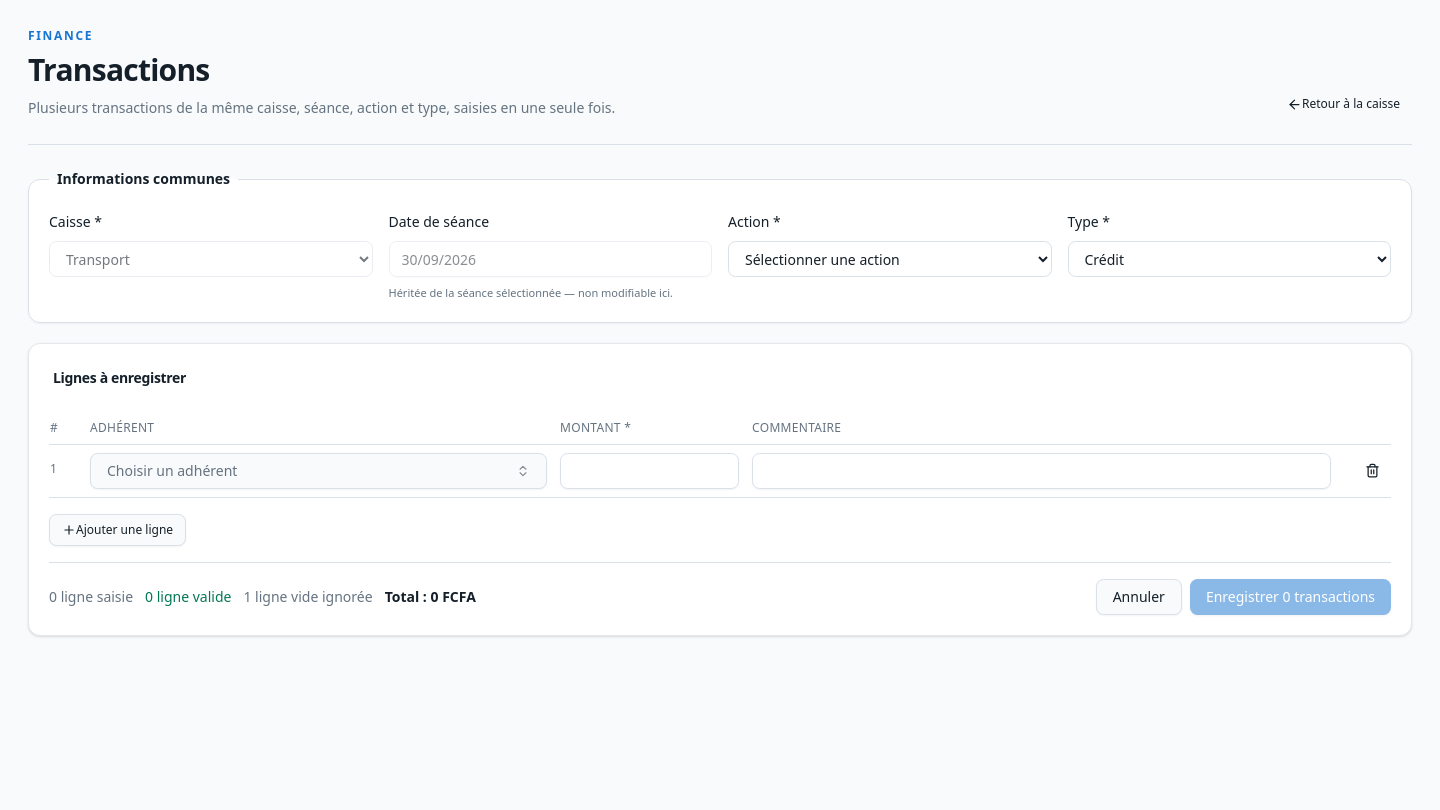
Scenario: Séparation Caisses / Crédit — écrans › saisie rapide Remboursement : caisse d’encaissement, note d’encaissement, répartition capital / intérêts calculée par le métier
This screenshot has width=1440, height=810.
Expected: the heading "Transactions" is shown, [28,49,210,90]
Expected: the dropdown labelled "Caisse *" shows "Transport", [49,241,372,277]
Select "Rembourser" in the dropdown labelled "Action *" at [890, 259], box [728,241,1052,277]
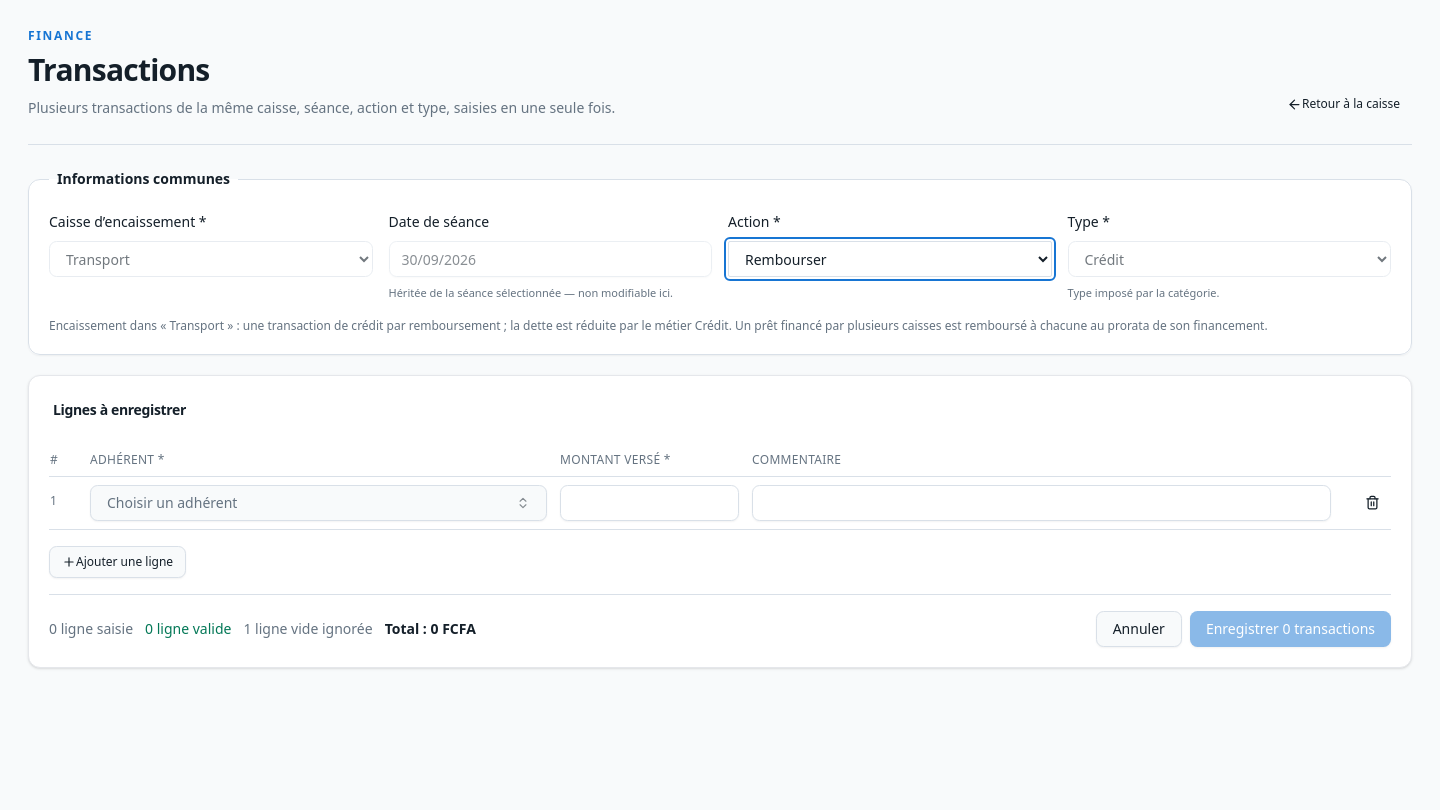
Expected: the dropdown labelled "Caisse d’encaissement *" is shown, [49,241,372,277]
Expected: the text with test id "quick-entry-movement-note" shows "Encaissement dans « Transport » : une transaction de crédit par remboursement", [49,316,1268,334]
Click the dropdown labelled "Choisir un adhérent" at [172, 502], box [90,484,547,520]
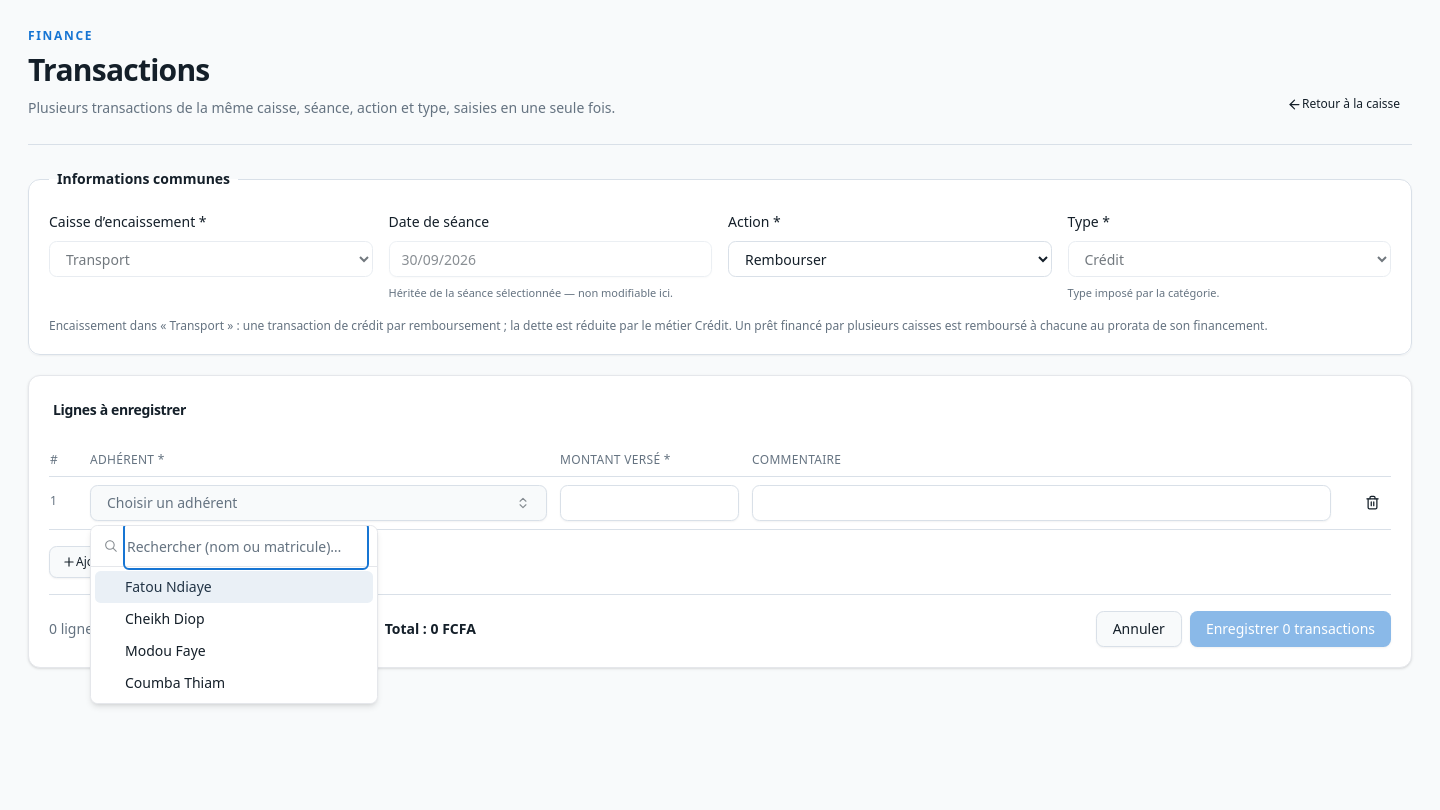
Type "Fatou" into the dropdown with placeholder "Rechercher (nom ou matricule)…" at [246, 546], box [127,526,365,566]
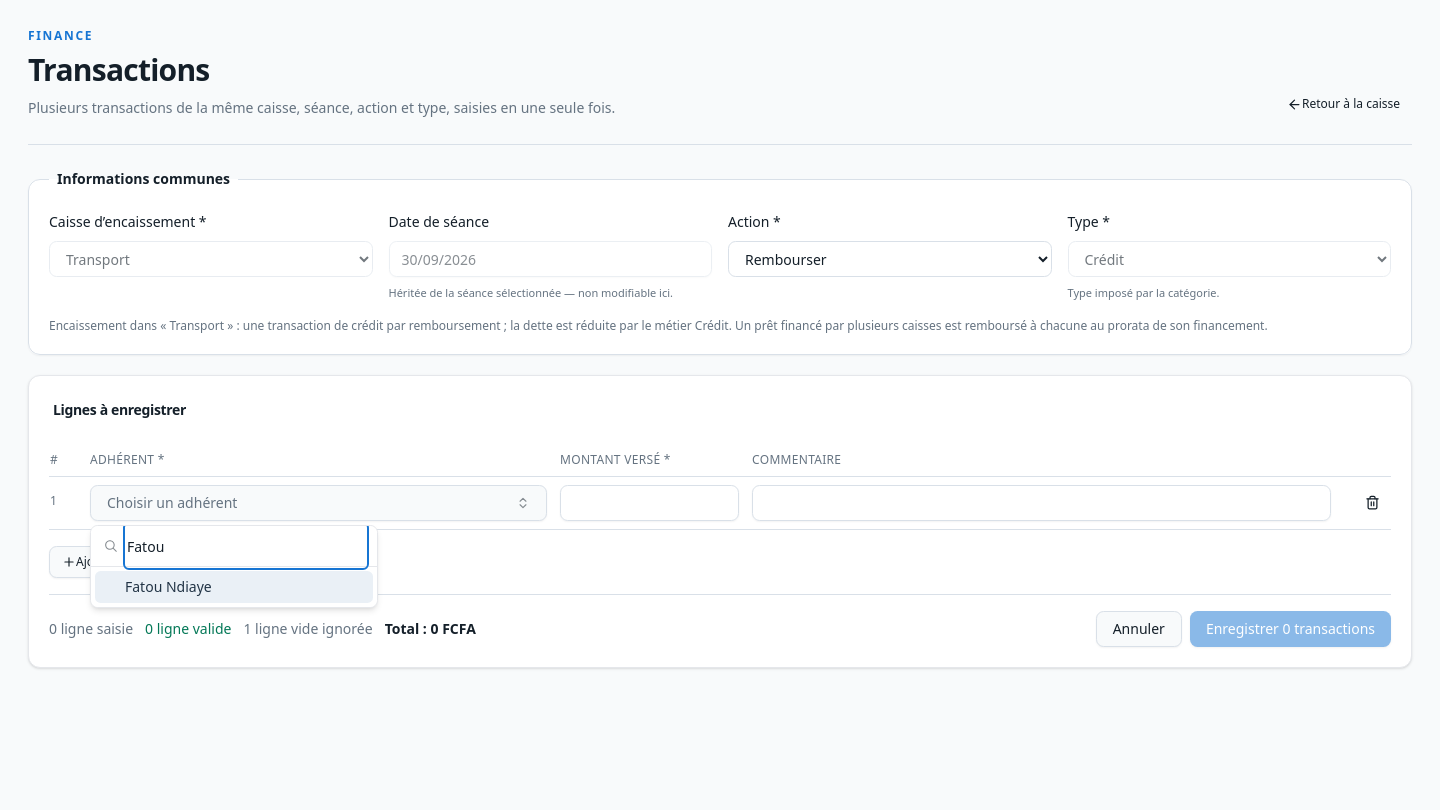
Click the option "Fatou Ndiaye" at [168, 586], box [95,571,373,603]
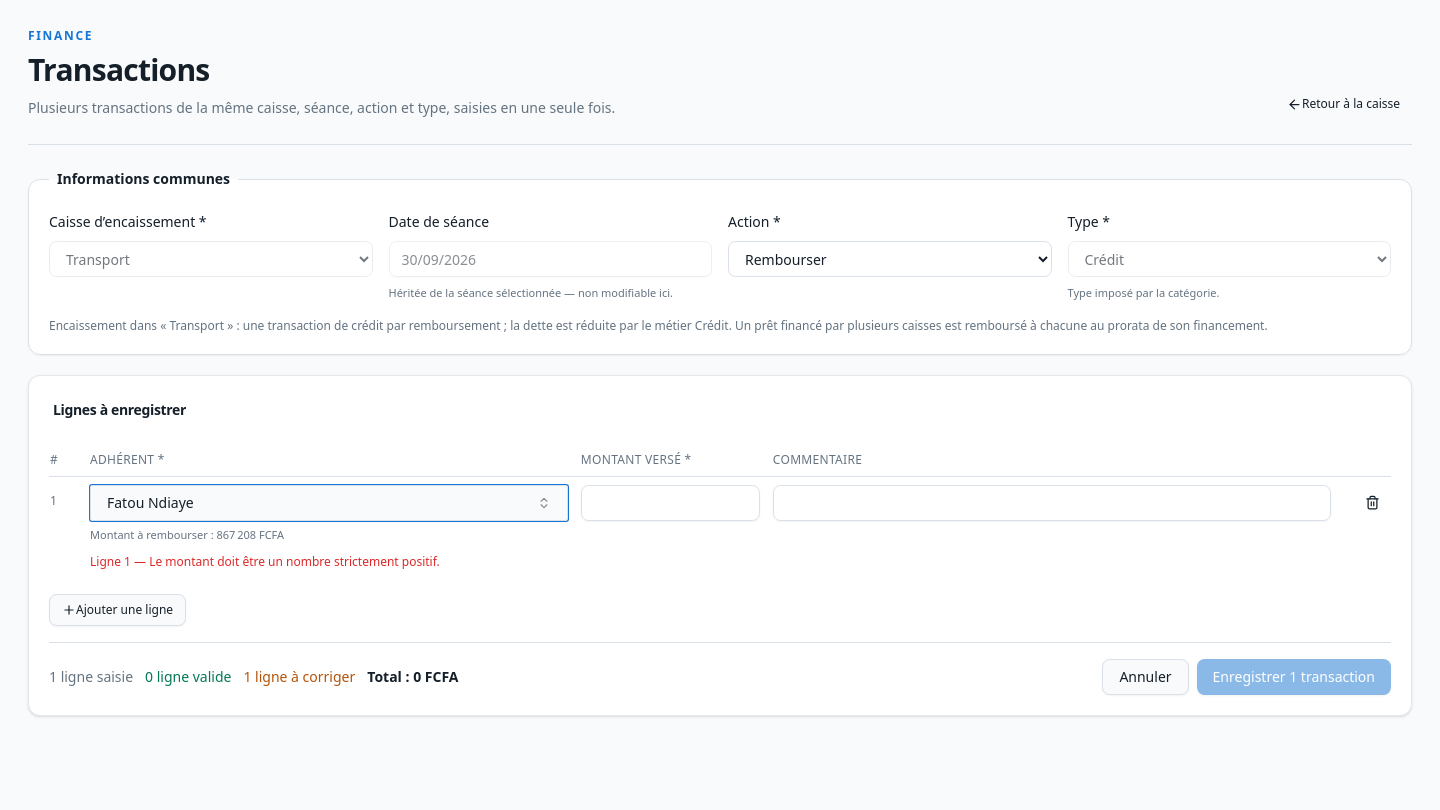
Type "100000" into the field named "Montant de la ligne 1" at [670, 502], box [581,484,760,520]
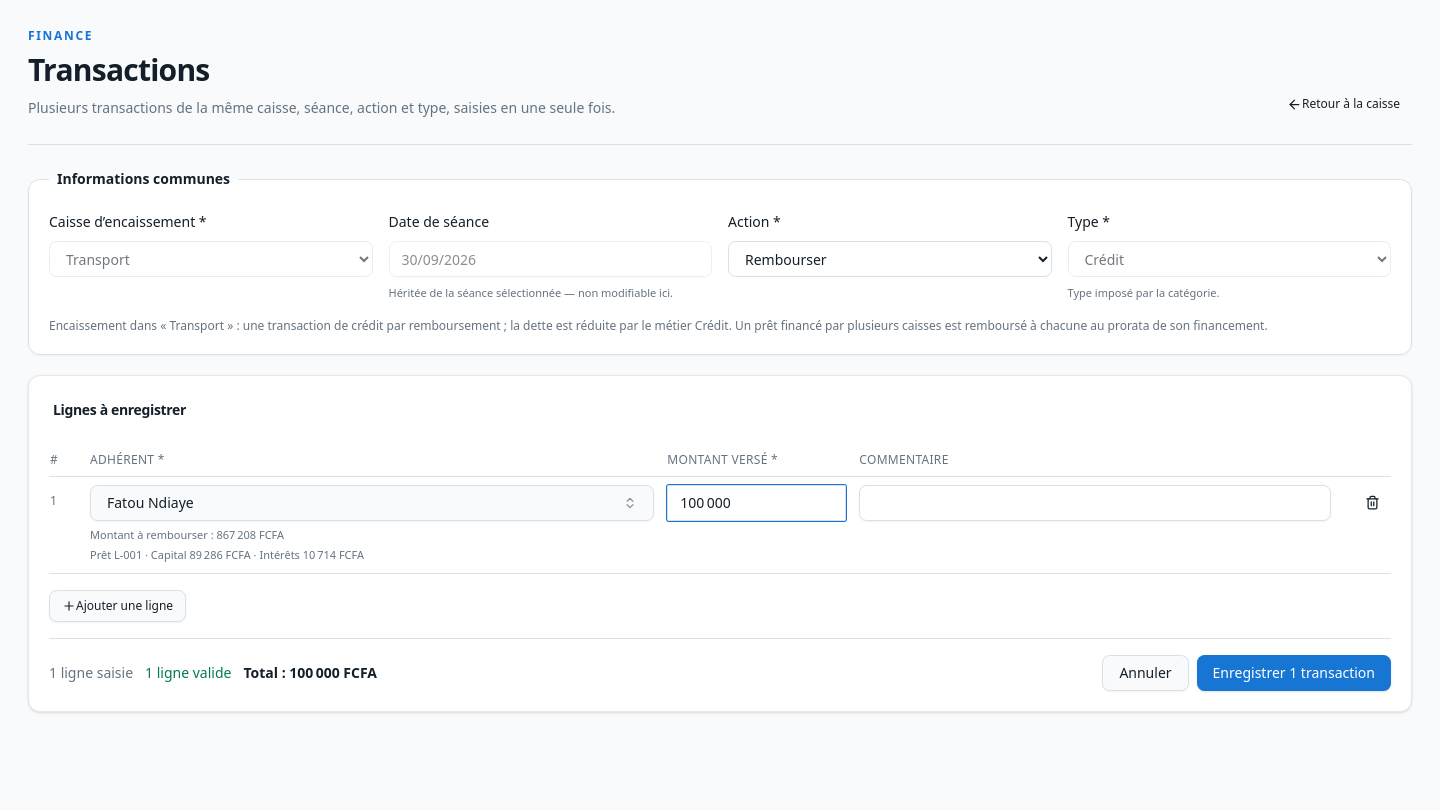
Expected: the text with test id "quick-entry-repayment-split" reads "Prêt L-001 · Capital 89 286 FCFA · Intérêts 10 714 FCFA", [90,546,364,562]
